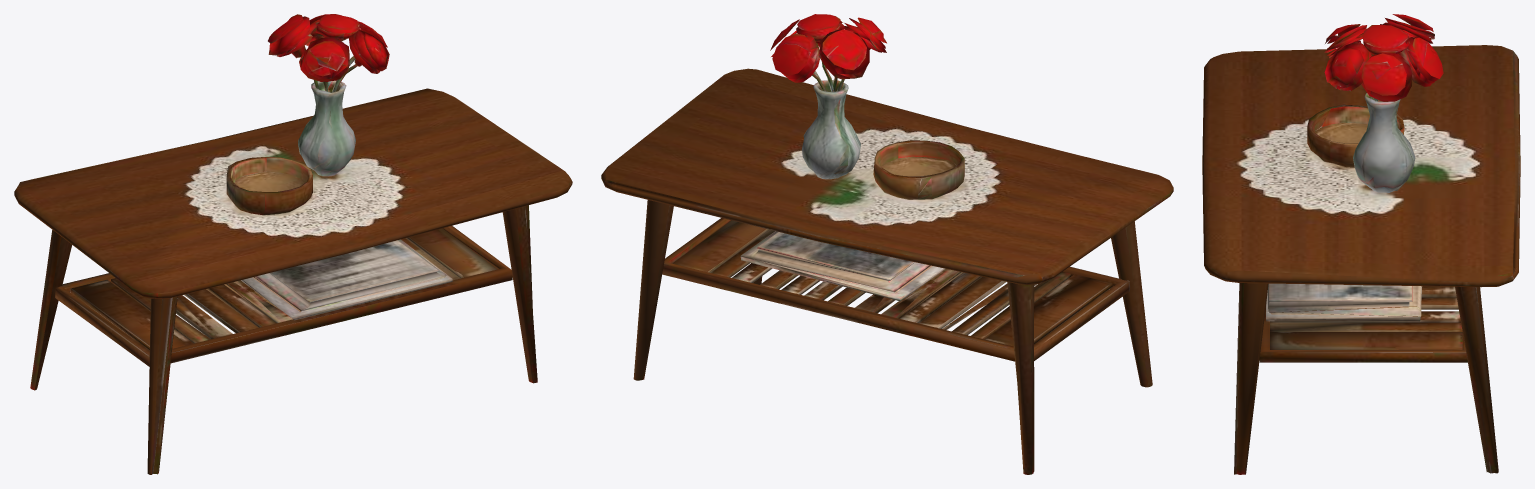
The model's file is table_small__1.glb.
3 renders of one model, left to right at view 1: azimuth 30°, elevation 25°; view 2: azimuth 150°, elevation 25°; view 3: azimuth 270°, elevation 25°, orthographic. The views are drawn at different scales.
Parts seen in each view (by area): view 1: Mesh_0.055; view 2: Mesh_0.055; view 3: Mesh_0.055.
Boxes of the visible parts, bbox=[...] form: Mesh_0.055: bbox=[14, 14, 572, 474]; Mesh_0.055: bbox=[601, 14, 1173, 474]; Mesh_0.055: bbox=[1202, 14, 1520, 474].
Size of the model in its own units: 1.16 by 0.878 by 0.6756.
1 material, 1 textured.
